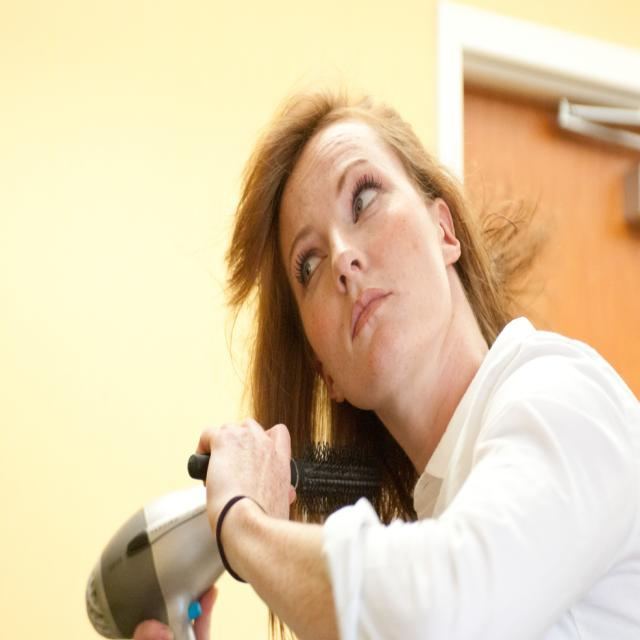dryer: (67, 409, 296, 640)
